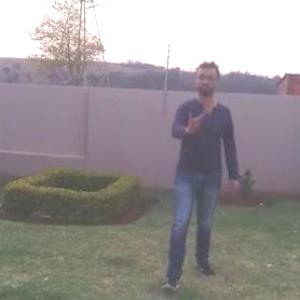takeoff-hand: (182, 100, 209, 136)
